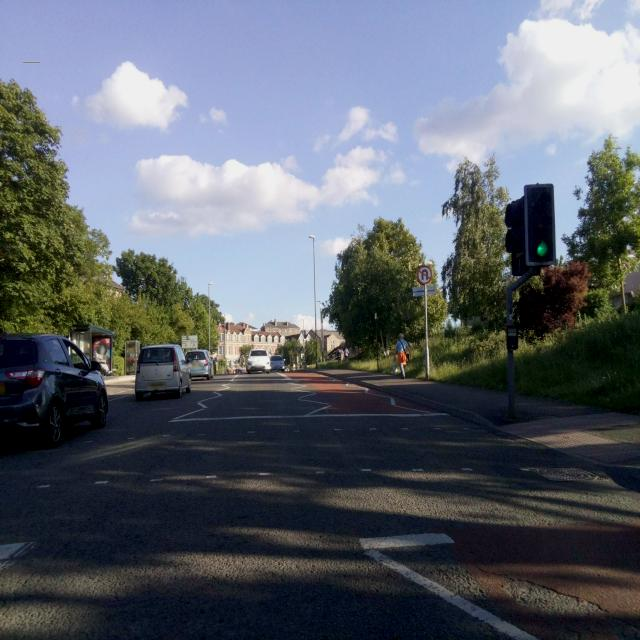car: (0, 332, 109, 448), (134, 344, 192, 399), (186, 348, 214, 379), (246, 348, 271, 373), (270, 354, 285, 371)
